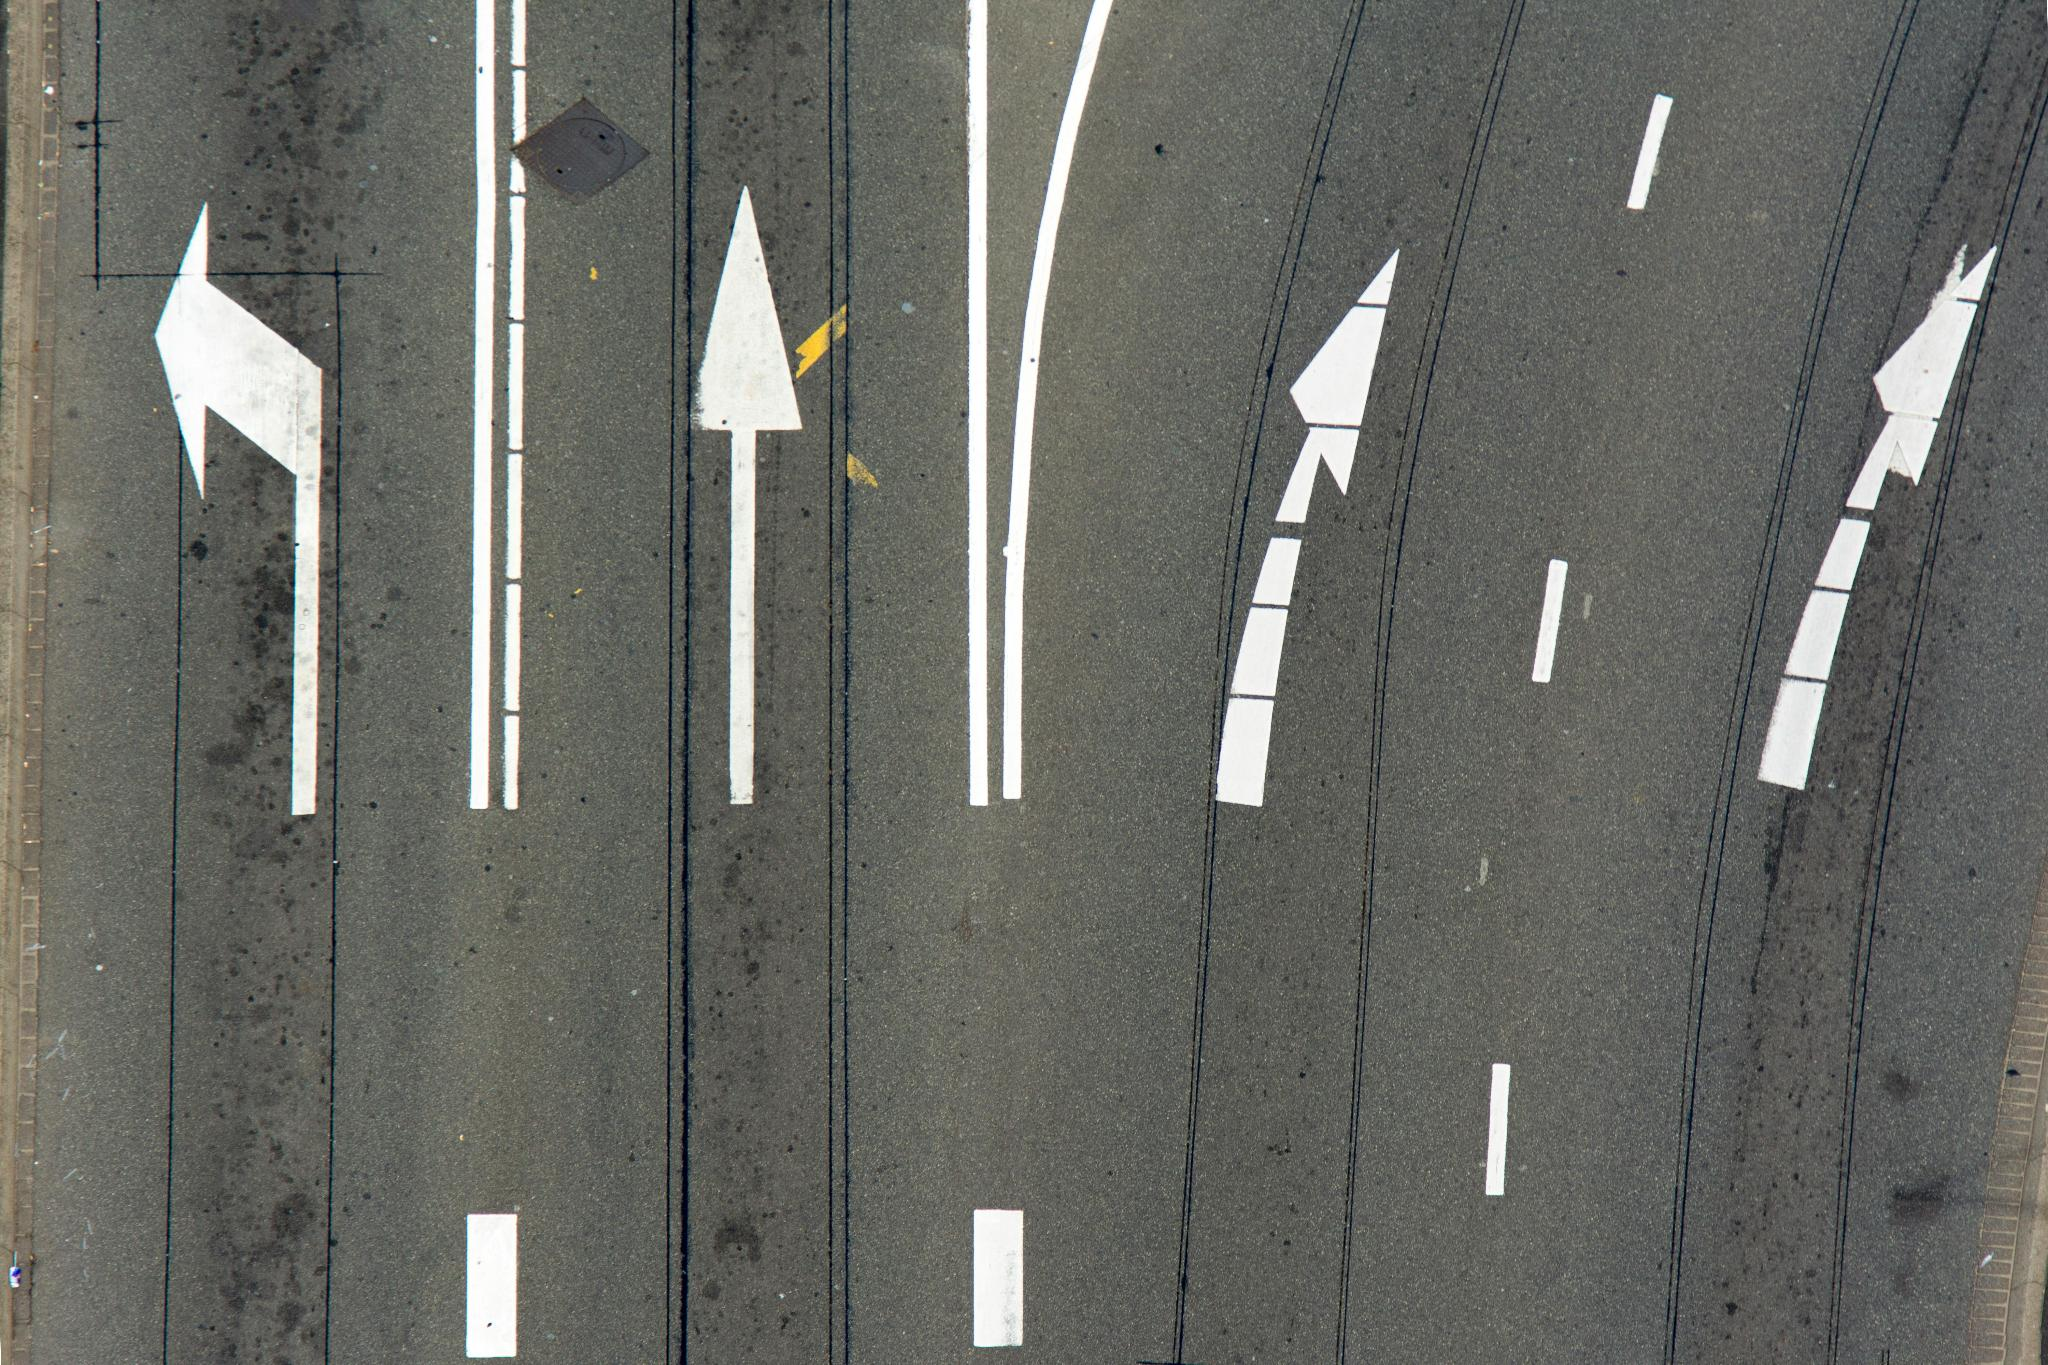faded_road_lines: (1750, 241, 2021, 814), (1197, 222, 1424, 810), (154, 184, 330, 833), (652, 165, 821, 820)
